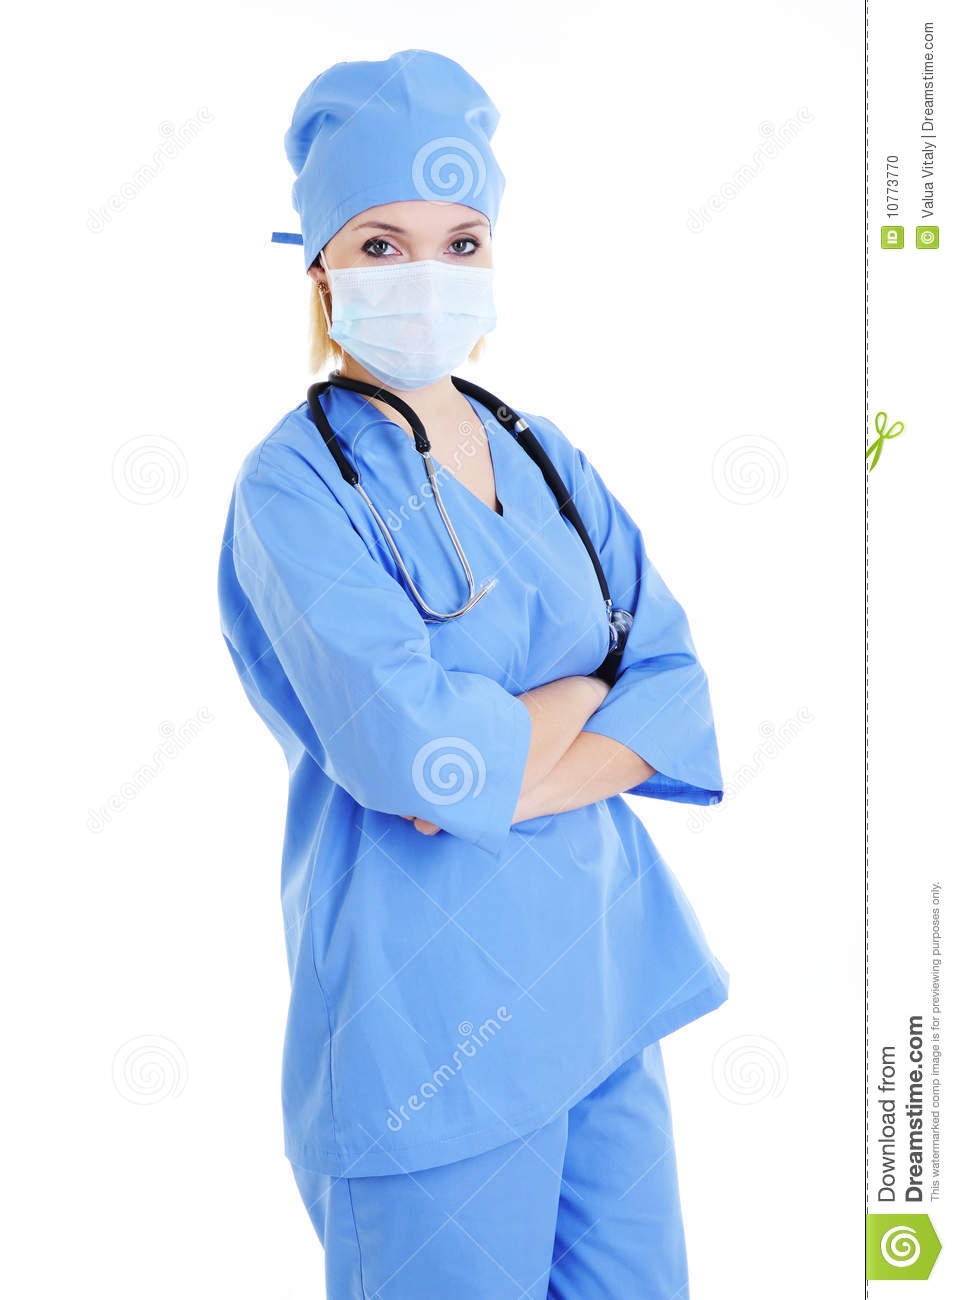mask: (323, 263, 495, 377)
